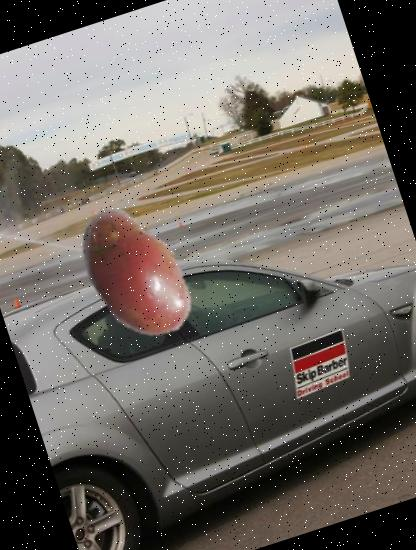Potato: (44, 180, 228, 363)
